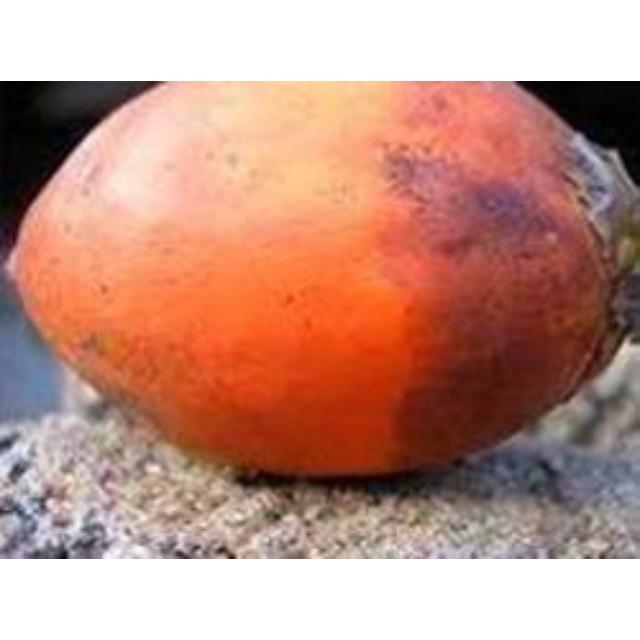good: (8, 81, 637, 485)
